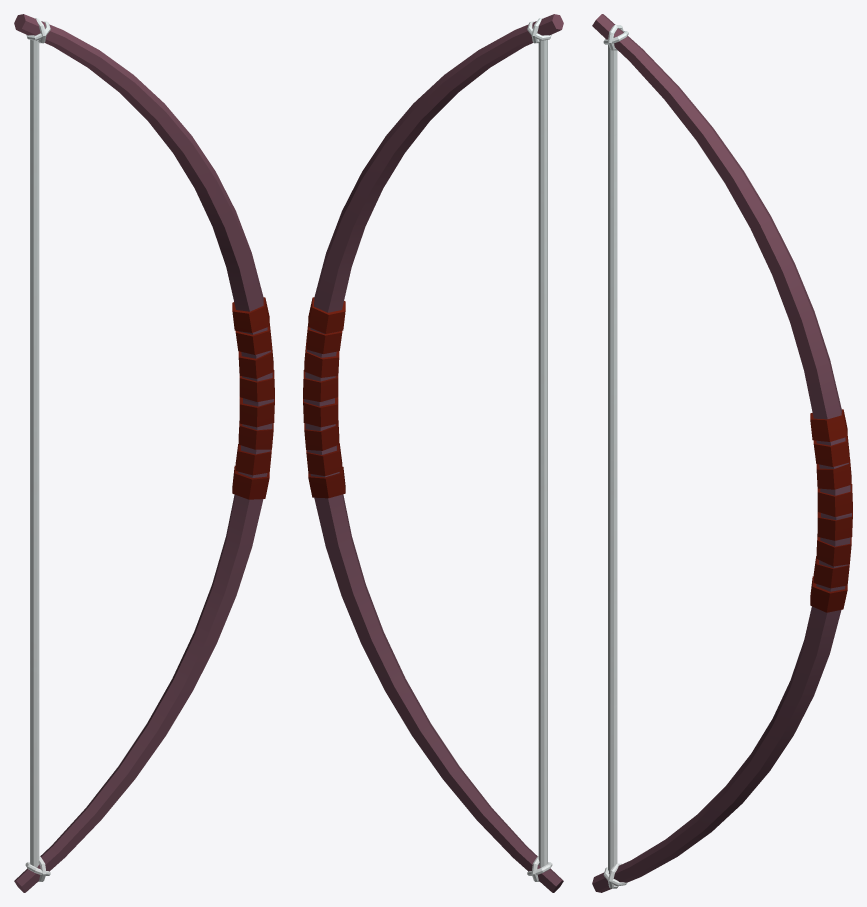
File: Proto_Bow_01.fbx
3 renders of one model, left to right at view 1: azimuth 30°, elevation 25°; view 2: azimuth 150°, elevation 25°; view 3: azimuth 330°, elevation 25°, orthographic.
Visible parts, largest first — view 1: Proto_Bow_01; view 2: Proto_Bow_01; view 3: Proto_Bow_01.
Boxes of the visible parts, left/top/right/bottom form: Proto_Bow_01: left=14, top=14, right=274, bottom=892; Proto_Bow_01: left=303, top=14, right=563, bottom=892; Proto_Bow_01: left=592, top=14, right=852, bottom=892.
Size of the model in its own units: 31.09 by 101 by 3.68.
